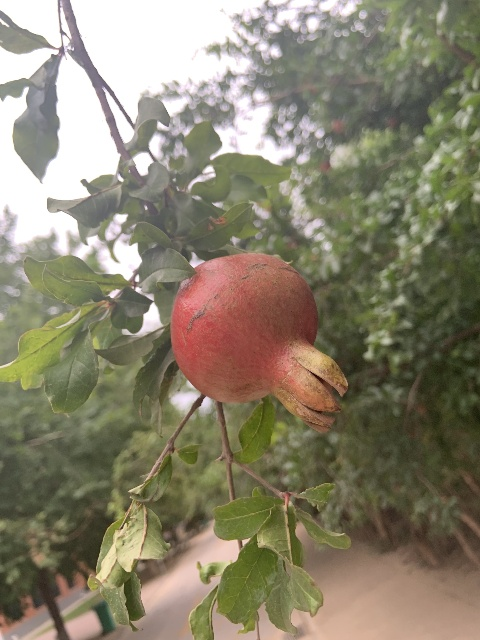ripe: (170, 253, 348, 429)
